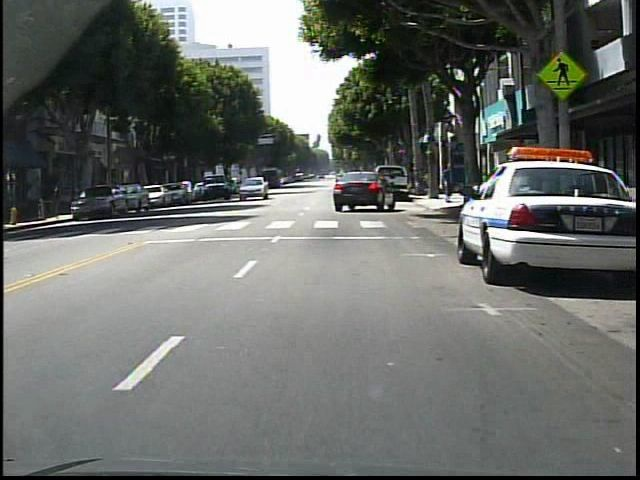person: (437, 160, 459, 208)
